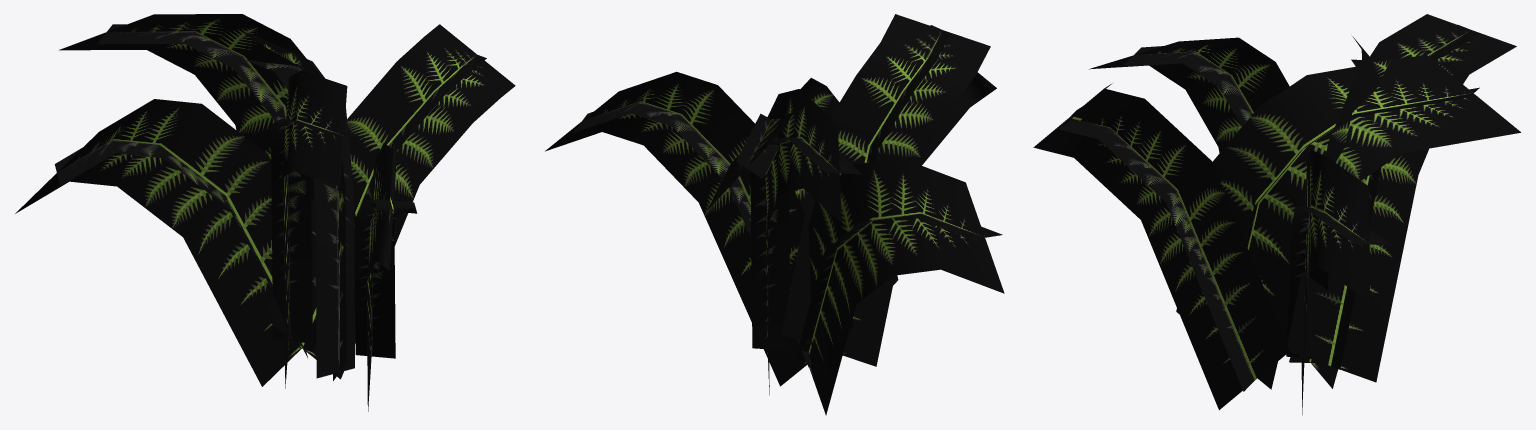
Rendered from fern.glb.
The picture shows the model from 3 angles, left to right: view 1: azimuth 30°, elevation 25°; view 2: azimuth 150°, elevation 25°; view 3: azimuth 270°, elevation 25°; orthographic projection. The views are drawn at different scales.
Visible parts, largest first — view 1: 1_Leaves; view 2: 1_Leaves; view 3: 1_Leaves.
Boxes of the visible parts, x1,y1,x2,y2 form: 1_Leaves: (15, 14, 515, 411); 1_Leaves: (545, 14, 1004, 415); 1_Leaves: (1033, 14, 1520, 414).
Bounding box in the file's own units: 53.7 × 37.46 × 47.24.
Materials: 1 (1 with a texture image).
